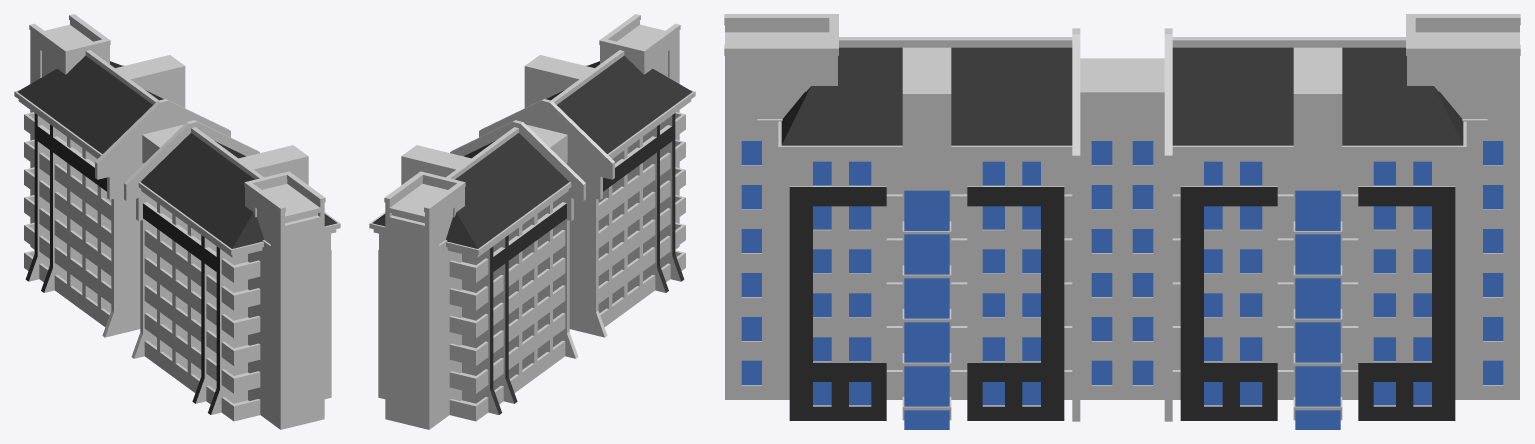
File: SHOU dormitory.fbx
3 renders of one model, left to right at view 1: azimuth 30°, elevation 25°; view 2: azimuth 150°, elevation 25°; view 3: azimuth 270°, elevation 25°, orthographic. The views are drawn at different scales.
Visible parts, largest first — view 1: SHOU dormitory; view 2: SHOU dormitory; view 3: SHOU dormitory.
Boxes of the visible parts, x1,y1,x2,y2 form: SHOU dormitory: (14,14,340,429); SHOU dormitory: (369,14,695,429); SHOU dormitory: (724,14,1520,429).
Size of the model in its own units: 5.96 by 9.45 by 19.41.
